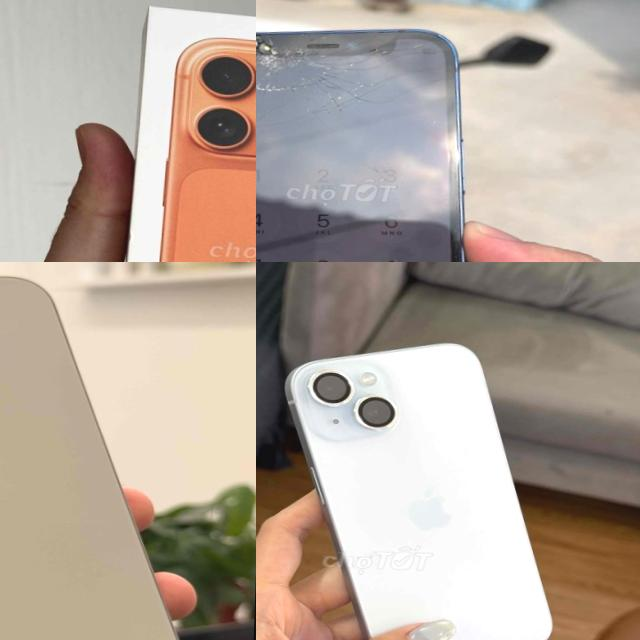gen_12_13: (256, 18, 489, 262)
gen_15: (256, 323, 586, 640), (0, 264, 211, 640)
gen_17: (145, 29, 256, 262)
physical_damage: (256, 20, 424, 124)
